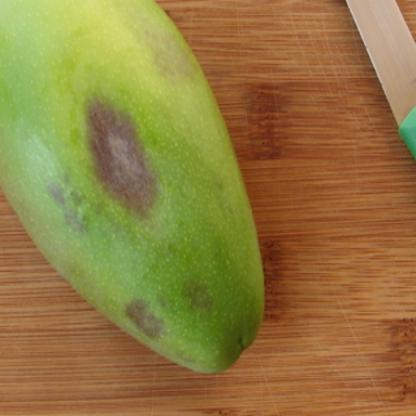knife: (280, 0, 416, 415)
